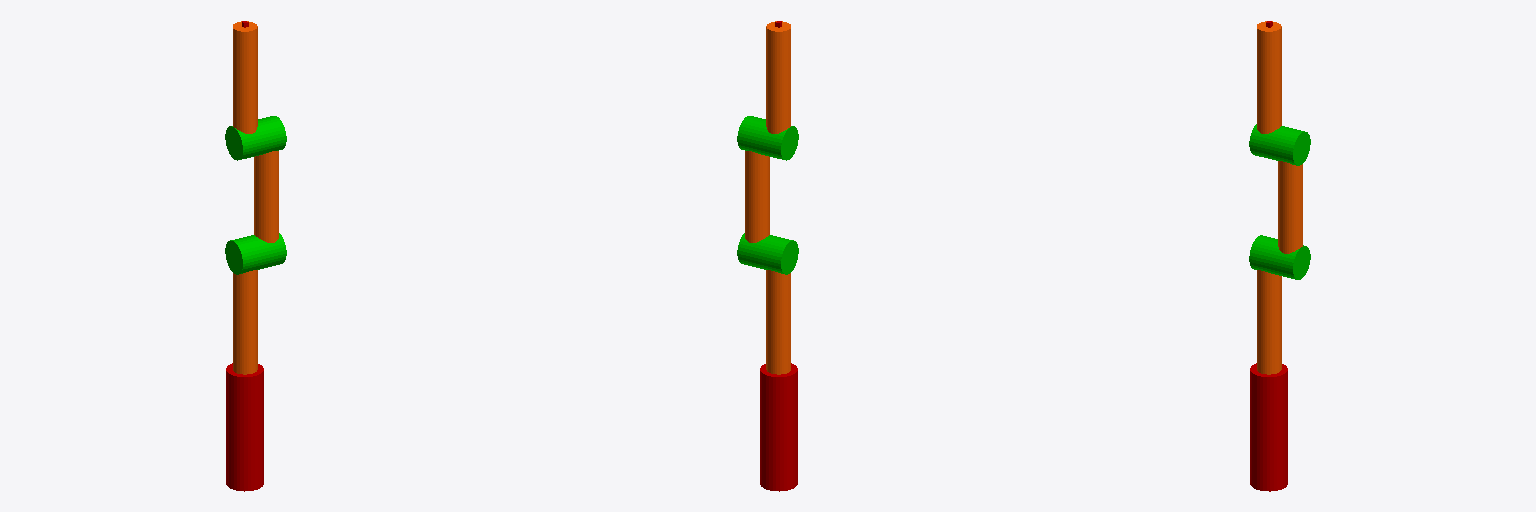
URDF robot description (rrrbot):
<?xml version="1.0" encoding="utf-8" ?>
<!-- Revolute-Prismatic Manipulator -->

<robot name="rrrbot">

    <link name="world" />
    
    
    <joint name="fixed" type="fixed">
        <parent link="world" />
        <child link="base_link" />
    </joint>
    
    
    <link name="base_link">
        <visual>
            <origin rpy="0.0 0.0 0.0" xyz="0 0 0.25" />
            <geometry>
          		<cylinder radius="0.075" length="0.5"/>
            </geometry>
            <material name="red">
                <color rgba="0.8 0 0 1" />
            </material>
        </visual>
        
        <collision>
            <origin rpy="0.0 0.0 0.0" xyz="0 0 0.25" />
            <geometry>
          		<cylinder radius="0.075" length="0.5"/>
            </geometry>
        </collision>
        
		<inertial>
            <mass value="0.1" />
            <inertia ixx="0.03" iyy="0.03" izz="0.03" ixy="0.0" ixz="0.0" iyz="0.0" />
        </inertial>
    </link>
    
    
    <joint name="base_to_link1" type="revolute">
        <origin rpy="0 0 0" xyz="0 0 0.5" />
        <parent link="base_link" />
        <child link="link1" />
        <axis xyz="0 0 1" />
        <limit effort="1000.0" lower="-3.14159265359" upper="3.14159265359" velocity="0.1" />
    </joint>
    
    
    <link name="link1">
        <visual>
            <origin rpy="0.0 0.0 0.0" xyz="0 0 0.25" />
            <geometry>
                <cylinder radius="0.05" length="0.5"/>
            </geometry>
            <material name="orange">
                <color rgba="1.0 0.423529411765 0.0392156862745 1.0" />
            </material>
        </visual>
        
        <collision>
            <origin rpy="0.0 0.0 0.0" xyz="0 0 0.25" />
            <geometry>
                <cylinder radius="0.05" length="0.5"/>
            </geometry>
        </collision>
        
		<inertial>
            <mass value="0.1" />
            <inertia ixx="0.03" iyy="0.03" izz="0.03" ixy="0.0" ixz="0.0" iyz="0.0" />
        </inertial>
    </link>
    
    <link name="link1_rotational_visual">
        <visual>
            <origin rpy="0.0 0.0 0.0" xyz="0 0 0.1" />
            <geometry>
                <cylinder radius="0.07" length="0.2"/>
            </geometry>
            <material name="green">
                <color rgba="0 0.8 0 1" />
            </material>
        </visual>
        
        <collision>
				<origin rpy="0.0 0.0 0.0" xyz="0 0 0.1" />
            <geometry>
                <cylinder radius="0.07" length="0.2"/>
            </geometry>
        </collision>
        
		<inertial>
            <mass value="0.1" />
            <inertia ixx="0.03" iyy="0.03" izz="0.03" ixy="0.0" ixz="0.0" iyz="0.0" />
        </inertial>
    </link>
     
    <joint name="link1_to_rotational" type="fixed">
        <origin rpy="0 1.57079632679 0" xyz="-0.05 0 0.5" />
        <parent link="link1" />
        <child link="link1_rotational_visual" />
    </joint>
   
    <joint name="link1_to_link2" type="revolute">
        <origin rpy="0 0 0" xyz="0.1 0 0.5" />
        <parent link="link1" />
        <child link="link2" />
        <axis xyz="1 0 0" />
        <limit effort="1000.0" lower="0" upper="6.28318530718" velocity="0.1" />
    </joint>
    
    
    <link name="link2">
        <visual>
            <origin rpy="0.0 0.0 0.0" xyz="0 0 0.25" />
            <geometry>
                <cylinder radius="0.05" length="0.5"/>
            </geometry>
            <material name="orange">
                <color rgba="1.0 0.423529411765 0.0392156862745 1.0" />
            </material>
        </visual>
        
        <collision>
            <origin rpy="0.0 0.0 0.0" xyz="0 0 0.25" />
            <geometry>
                <cylinder radius="0.05" length="0.5"/>
            </geometry>
        </collision>
        
		<inertial>
            <mass value="0.1" />
            <inertia ixx="0.03" iyy="0.03" izz="0.03" ixy="0.0" ixz="0.0" iyz="0.0" />
        </inertial>
    </link>
    
   
   <link name="link2_rotational_visual">
        <visual>
            <origin rpy="0.0 0 0.0" xyz="0 0 0.1" />
            <geometry>
                <cylinder radius="0.07" length="0.2"/>
            </geometry>
            <material name="green">
                <color rgba="0 0.8 0 1" />
            </material>
        </visual>
        
        <collision>
            <origin rpy="0.0 0 0.0" xyz="0 0 0.1" />
            <geometry>
                <cylinder radius="0.07" length="0.2"/>
            </geometry>
        </collision>
        
		<inertial>
            <mass value="0.1" />
            <inertia ixx="0.03" iyy="0.03" izz="0.03" ixy="0.0" ixz="0.0" iyz="0.0" />
        </inertial>
    </link>
    
    
    <joint name="link2_to_rotational" type="fixed">
        <origin rpy="0 1.57079632679 0" xyz="-0.15 0 0.5" />
        <parent link="link2" />
        <child link="link2_rotational_visual" />
    </joint>
    

    <joint name="link2_to_link3" type="revolute">
        <origin rpy="0 0 0" xyz="-0.1 0 0.5" />
        <parent link="link2" />
        <child link="link3" />
        <axis xyz="1.0 0.0 0.0"/>
        <limit effort="1000.0" lower="0" upper="6.28318530718" velocity="0.1" />
    </joint>
    
    
    <link name="link3">
        <visual>
            <origin rpy="0.0 0.0 0.0" xyz="0 0 0.25" />
            <geometry>
          		<cylinder radius="0.05" length="0.5"/>
          	</geometry>
            <material name="orange">
                <color rgba="1.0 0.423529411765 0.0392156862745 1.0" />
            </material>
        </visual>
        
        <collision>
            <origin rpy="0.0 0.0 0.0" xyz="0 0 0.25" />
            <geometry>
          		<cylinder radius="0.05" length="0.5"/>
          	</geometry>
        </collision>
        
		<inertial>
            <mass value="0.1" />
            <inertia ixx="0.03" iyy="0.03" izz="0.03" ixy="0.0" ixz="0.0" iyz="0.0" />
        </inertial>
    </link>
    
    
    <joint name="link3_to_tip" type="fixed">
        <origin rpy="0 0 0" xyz="0 0 0.5" />
        <parent link="link3" />
        <child link="tip" />
    </joint>
  
  
    <gazebo reference="link3_to_tip">
        <disableFixedJointLumping>true</disableFixedJointLumping> 
        <preserveFixedJoint>true</preserveFixedJoint>
    </gazebo>
    
       
    <link name="tip">
        <visual>
            <origin rpy="0.0 0.0 0.0" xyz="0 0 0.01" />
            <geometry>
                <box size="0.02 0.02 0.02" />
          	</geometry>
            <material name="red">
                <color rgba="0.8 0 0 1" />
            </material>
        </visual>
        
        <collision>
            <origin rpy="0.0 0.0 0.0" xyz="0 0 0.01" />
            <geometry>
                <box size="0.02 0.02 0.02" />
          	</geometry>
        </collision>
        
		<inertial>
            <mass value="0.1" />
            <inertia ixx="0.03" iyy="0.03" izz="0.03" ixy="0.0" ixz="0.0" iyz="0.0" />
        </inertial>
    </link>
    
  
    
    
     <transmission name="trans_base_to_link1">
        <type>transmission_interface/SimpleTransmission</type>
        <joint name="base_to_link1">
            <hardwareInterface>hardware_interface/EffortJointInterface</hardwareInterface>
        </joint>
        <actuator name="base_to_link1_motor">
            <hardwareInterface>hardware_interface/EffortJointInterface</hardwareInterface>
            <mechanicalReduction>1</mechanicalReduction>
        </actuator>
    </transmission>


    <transmission name="trans_link1_to_link2">
        <type>transmission_interface/SimpleTransmission</type>
        <joint name="link1_to_link2">
            <hardwareInterface>hardware_interface/EffortJointInterface</hardwareInterface>
        </joint>
        <actuator name="link1_to_link2_motor">
            <hardwareInterface>hardware_interface/EffortJointInterface</hardwareInterface>
            <mechanicalReduction>1</mechanicalReduction>
        </actuator>
    </transmission>
    
    
   <transmission name="trans_link2_to_link3">
        <type>transmission_interface/SimpleTransmission</type>
        <joint name="link2_to_link3">
            <hardwareInterface>hardware_interface/EffortJointInterface</hardwareInterface>
        </joint>
        <actuator name="link2_to_link3_motor">
            <hardwareInterface>hardware_interface/EffortJointInterface</hardwareInterface>
            <mechanicalReduction>1</mechanicalReduction>
        </actuator>
    </transmission>



    <gazebo>
        <plugin name="gazebo_ros_control" filename="libgazebo_ros_control.so">
            <robotNamespace>/rrrbot</robotNamespace>
        </plugin>
    </gazebo>
    
</robot>

--- Render facts (derived) ---
The picture shows the robot from 3 angles, left to right: view 1: azimuth 30°, elevation 25°; view 2: azimuth 150°, elevation 25°; view 3: azimuth 330°, elevation 25°; orthographic projection.
Model rrrbot with 8 links and 7 joints (3 revolute, 4 fixed), rooted at world, posed all joints at 0.
Links seen in each view (by area): view 1: base_link, link3, link1, link2, link1_rotational_visual, link2_rotational_visual; view 2: base_link, link3, link1, link2, link1_rotational_visual, link2_rotational_visual; view 3: base_link, link3, link1, link2, link2_rotational_visual, link1_rotational_visual.
Boxes of the visible links, <box> form: base_link: <box>226,363,263,491</box>; link3: <box>233,21,257,133</box>; link1: <box>233,270,257,374</box>; link2: <box>254,151,278,242</box>; link1_rotational_visual: <box>225,233,286,274</box>; link2_rotational_visual: <box>225,116,286,160</box>; base_link: <box>760,363,797,491</box>; link3: <box>766,21,790,133</box>; link1: <box>766,270,790,374</box>; link2: <box>745,151,769,242</box>; link1_rotational_visual: <box>737,233,798,274</box>; link2_rotational_visual: <box>737,116,798,160</box>; base_link: <box>1250,363,1287,491</box>; link3: <box>1257,21,1281,133</box>; link1: <box>1257,270,1281,374</box>; link2: <box>1278,161,1302,253</box>; link2_rotational_visual: <box>1249,124,1310,165</box>; link1_rotational_visual: <box>1249,235,1310,279</box>.
Bounding box of the posed robot: 0.225 × 0.15 × 2.02 m (x, y, z).
Geometry: primitives only (box / cylinder / sphere), no mesh files.